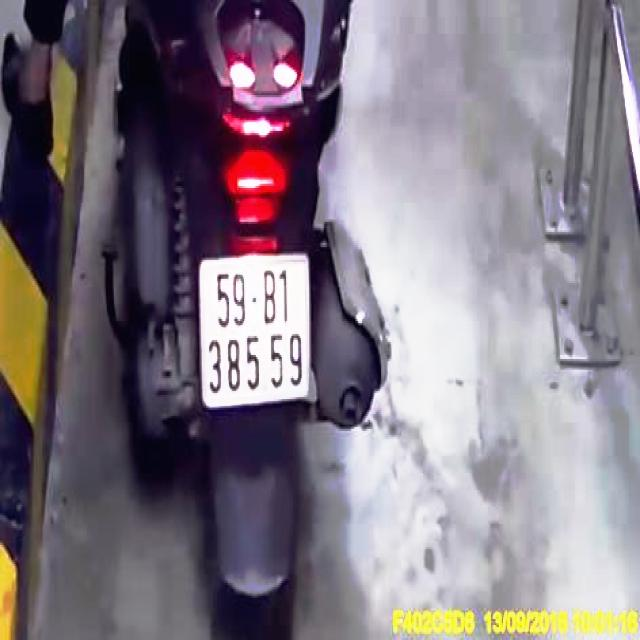license_plate: (203, 257, 310, 403)
